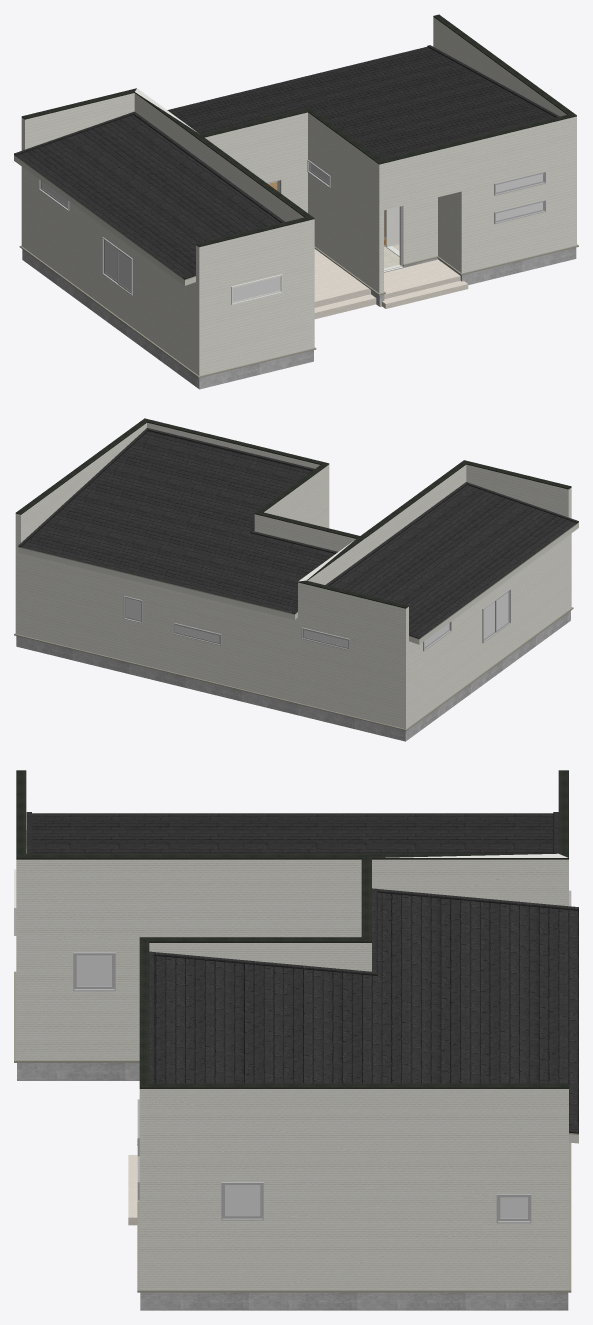
The model's file is SM_OneStory_1.fbx.
3 renders of one model, top to bottom at view 1: azimuth 30°, elevation 25°; view 2: azimuth 150°, elevation 25°; view 3: azimuth 270°, elevation 25°, orthographic. The views are drawn at different scales.
Visible parts, largest first — view 1: SM_OneStory_1.011, SM_OneStory_1.006, SM_OneStory_1.016, SM_OneStory_1.002, SM_OneStory_1.021, SM_OneStory_1.023, SM_OneStory_1.005, SM_OneStory_1.001, SM_OneStory_1.003, SM_OneStory_1.012; view 2: SM_OneStory_1.011, SM_OneStory_1.006, SM_OneStory_1.021, SM_OneStory_1.002, SM_OneStory_1.012, SM_OneStory_1.005, SM_OneStory_1.023, SM_OneStory_1.001; view 3: SM_OneStory_1.011, SM_OneStory_1.006, SM_OneStory_1.002, SM_OneStory_1.021, SM_OneStory_1.005, SM_OneStory_1.023, SM_OneStory_1.001, SM_OneStory_1.016.
Boxes of the visible parts, x1,y1,x2,y2 form: SM_OneStory_1.011: [21, 17, 576, 375]; SM_OneStory_1.006: [14, 45, 559, 279]; SM_OneStory_1.016: [314, 249, 468, 319]; SM_OneStory_1.002: [21, 14, 576, 247]; SM_OneStory_1.021: [22, 247, 576, 389]; SM_OneStory_1.023: [41, 163, 542, 301]; SM_OneStory_1.005: [14, 155, 578, 377]; SM_OneStory_1.001: [39, 160, 545, 295]; SM_OneStory_1.003: [135, 88, 403, 304]; SM_OneStory_1.012: [14, 155, 195, 285]; SM_OneStory_1.011: [15, 422, 571, 728]; SM_OneStory_1.006: [18, 428, 578, 638]; SM_OneStory_1.021: [16, 611, 570, 741]; SM_OneStory_1.002: [15, 418, 571, 608]; SM_OneStory_1.012: [18, 523, 578, 644]; SM_OneStory_1.005: [14, 522, 578, 730]; SM_OneStory_1.023: [126, 592, 508, 647]; SM_OneStory_1.001: [123, 589, 510, 651]; SM_OneStory_1.011: [16, 830, 568, 1289]; SM_OneStory_1.006: [26, 812, 578, 1133]; SM_OneStory_1.002: [16, 770, 568, 1088]; SM_OneStory_1.021: [17, 1063, 568, 1310]; SM_OneStory_1.005: [14, 971, 578, 1292]; SM_OneStory_1.023: [76, 955, 527, 1218]; SM_OneStory_1.001: [73, 890, 571, 1223]; SM_OneStory_1.016: [128, 1155, 139, 1225].
Size of the model in its own units: 14.23 by 4.54 by 10.41.
Materials: 19 (17 with a texture image).
